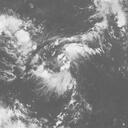cyclone: (30, 34, 90, 96)
